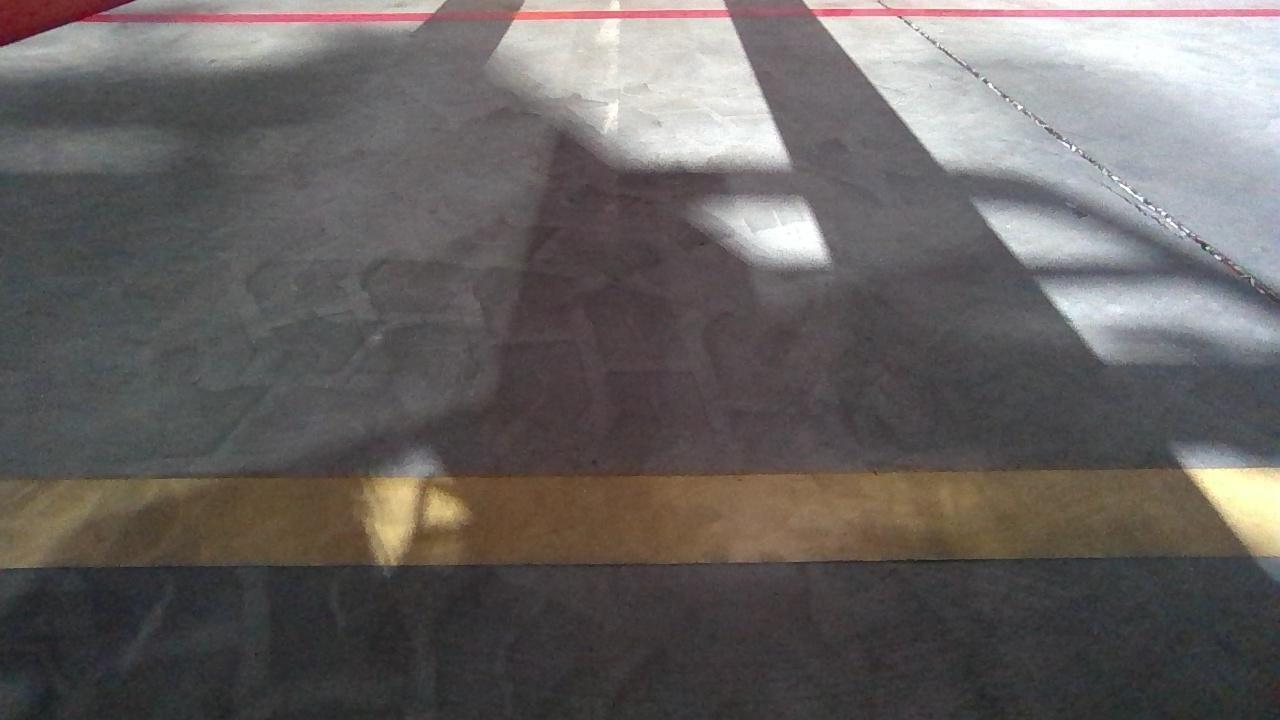red_line: (79, 8, 1280, 22)
yellow_line: (0, 477, 1279, 566)
